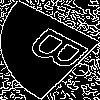B: (24, 25, 100, 79)
